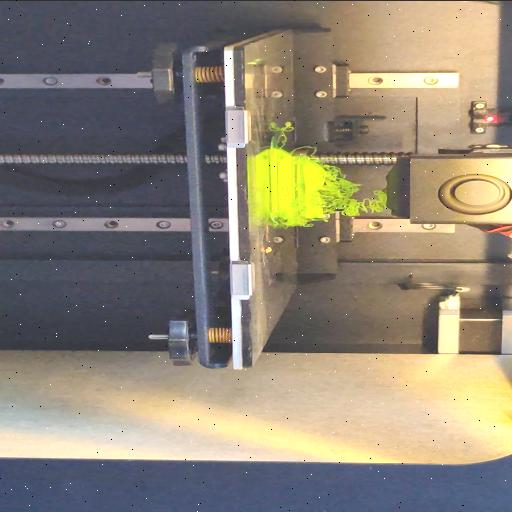spaghetti: (314, 166, 384, 222), (278, 123, 292, 146), (288, 146, 320, 156), (270, 218, 282, 228)
